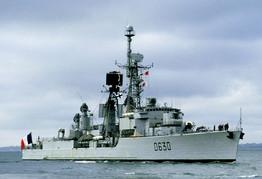warship: (19, 21, 245, 161)
